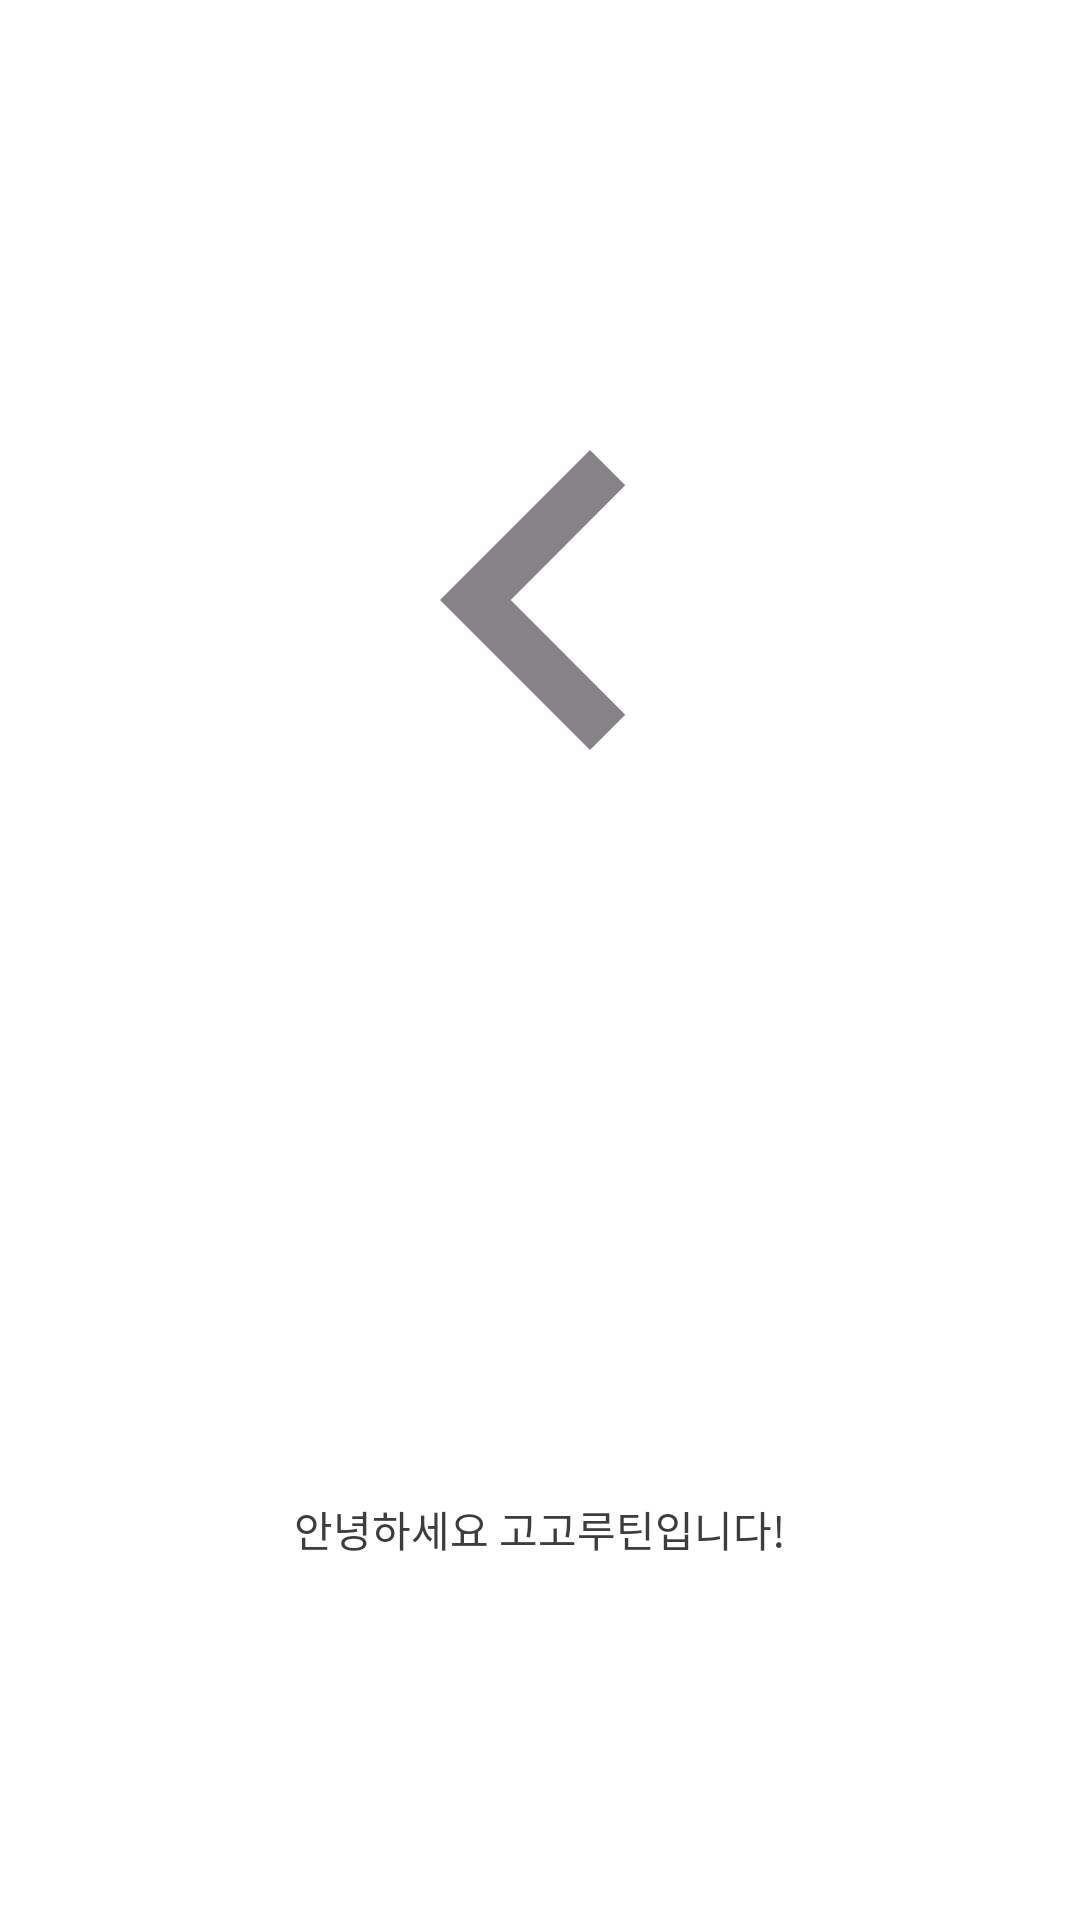

Point at icon controls on the screen. Image size 1080*1920, points as (x,y).
chevron left: (532,600)
